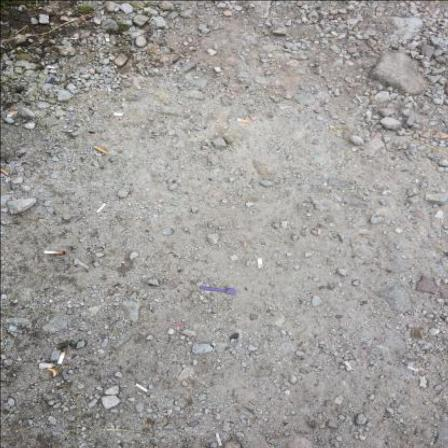Cigarette: (57, 351, 66, 365), (94, 147, 109, 155), (136, 385, 149, 394), (97, 204, 108, 214), (215, 433, 223, 446), (344, 361, 353, 371), (39, 364, 53, 370), (45, 252, 66, 256), (48, 369, 57, 378), (238, 120, 250, 125), (259, 260, 264, 271), (115, 113, 124, 117), (47, 67, 57, 70), (10, 112, 19, 115), (106, 39, 110, 43), (68, 39, 80, 40)
Other litter: (200, 288, 237, 296)
Unlabeled litter: (173, 323, 187, 327)
